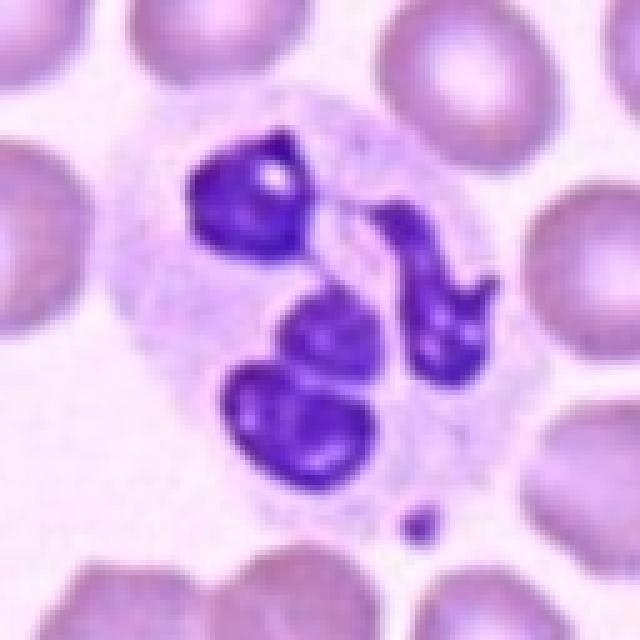neutro: (43, 62, 532, 546)
